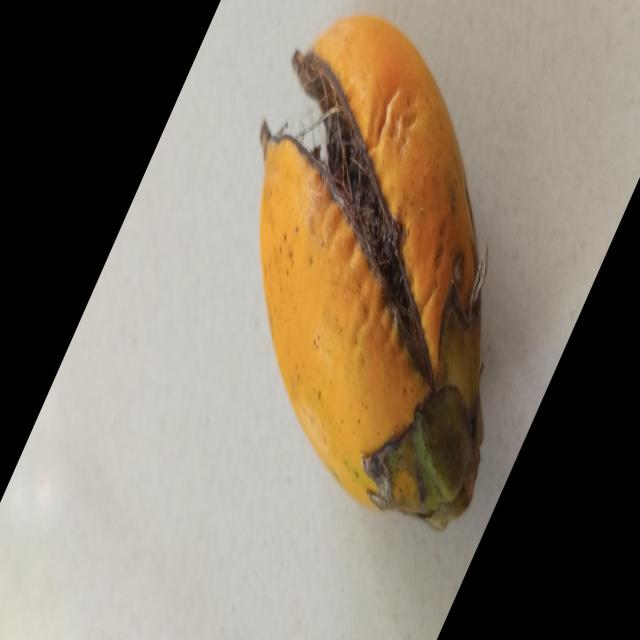damaged: (260, 16, 488, 529)
